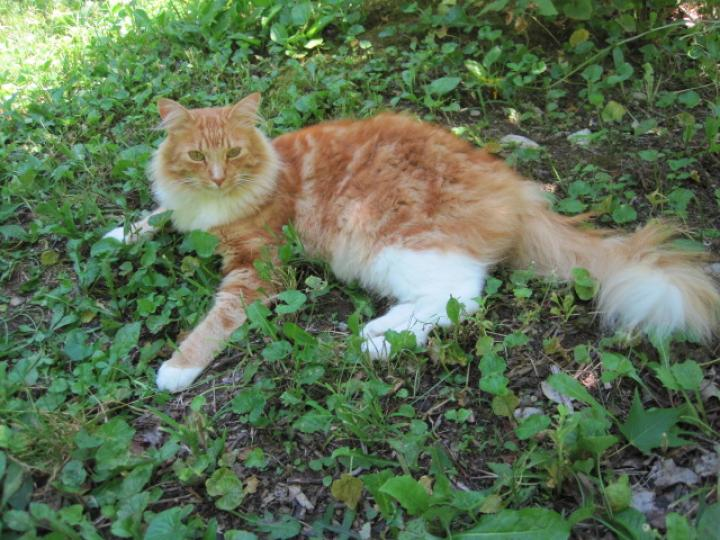cat: (101, 97, 720, 389)
